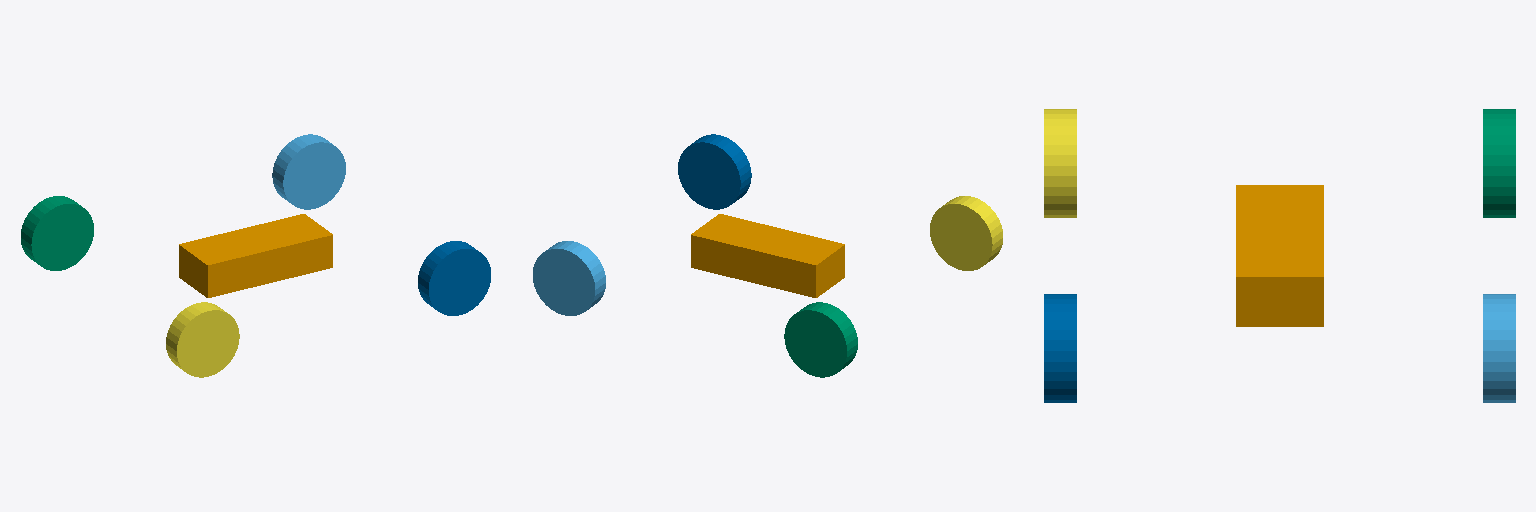
The robot description file, URDF, robot "simple_car":
<?xml version="1.0" ?>
<!-- =================================================================================== -->
<!-- |    This document was autogenerated by xacro from model.urdf.xacro               | -->
<!-- |    EDITING THIS FILE BY HAND IS NOT RECOMMENDED                                 | -->
<!-- =================================================================================== -->
<robot name="simple_car">
  <link name="base_link">
    <inertial>
      <origin rpy="0 0 0" xyz="0 0 0"/>
      <mass value="50"/>
      <inertia ixx="3.7083333333333335" ixy="0" ixz="0" iyy="17.708333333333332" iyz="0" izz="19.333333333333332"/>
    </inertial>
    <visual>
      <origin rpy="0 0 0" xyz="0 0 0"/>
      <geometry>
        <box size="2 0.8 0.5"/>
      </geometry>
    </visual>
    <collision>
      <origin rpy="0 0 0" xyz="0 0 0"/>
      <geometry>
        <box size="2 0.8 0.5"/>
      </geometry>
    </collision>
  </link>
  <link name="wheel_link_fl">
    <inertial>
      <origin rpy="0 0 0" xyz="0 0 0"/>
      <mass value="50"/>
      <inertia ixx="3.4999999999999996" ixy="0" ixz="0" iyy="3.4999999999999996" iyz="0" izz="6.25"/>
    </inertial>
    <visual>
      <origin rpy="0 0 0" xyz="0 0 0"/>
      <geometry>
        <cylinder length="0.3" radius="0.5"/>
      </geometry>
    </visual>
    <collision>
      <origin rpy="0 0 0" xyz="0 0 0"/>
      <geometry>
        <cylinder length="0.3" radius="0.5"/>
      </geometry>
    </collision>
  </link>
  <link name="wheel_link_rl">
    <inertial>
      <origin rpy="0 0 0" xyz="0 0 0"/>
      <mass value="50"/>
      <inertia ixx="3.4999999999999996" ixy="0" ixz="0" iyy="3.4999999999999996" iyz="0" izz="6.25"/>
    </inertial>
    <visual>
      <origin rpy="0 0 0" xyz="0 0 0"/>
      <geometry>
        <cylinder length="0.3" radius="0.5"/>
      </geometry>
    </visual>
    <collision>
      <origin rpy="0 0 0" xyz="0 0 0"/>
      <geometry>
        <cylinder length="0.3" radius="0.5"/>
      </geometry>
    </collision>
  </link>
  <link name="wheel_link_rr">
    <inertial>
      <origin rpy="0 0 0" xyz="0 0 0"/>
      <mass value="50"/>
      <inertia ixx="3.4999999999999996" ixy="0" ixz="0" iyy="3.4999999999999996" iyz="0" izz="6.25"/>
    </inertial>
    <visual>
      <origin rpy="0 0 0" xyz="0 0 0"/>
      <geometry>
        <cylinder length="0.3" radius="0.5"/>
      </geometry>
    </visual>
    <collision>
      <origin rpy="0 0 0" xyz="0 0 0"/>
      <geometry>
        <cylinder length="0.3" radius="0.5"/>
      </geometry>
    </collision>
  </link>
  <link name="wheel_link_fr">
    <inertial>
      <origin rpy="0 0 0" xyz="0 0 0"/>
      <mass value="50"/>
      <inertia ixx="3.4999999999999996" ixy="0" ixz="0" iyy="3.4999999999999996" iyz="0" izz="6.25"/>
    </inertial>
    <visual>
      <origin rpy="0 0 0" xyz="0 0 0"/>
      <geometry>
        <cylinder length="0.3" radius="0.5"/>
      </geometry>
    </visual>
    <collision>
      <origin rpy="0 0 0" xyz="0 0 0"/>
      <geometry>
        <cylinder length="0.3" radius="0.5"/>
      </geometry>
    </collision>
  </link>
  <joint name="joint_base_link_to_wheel_link_fl" type="continuous">
    <origin rpy="1.5707963267948966 0 0" xyz="2 2 0"/>
    <parent link="base_link"/>
    <child link="wheel_link_fl"/>
    <axis xyz="0 0 1"/>
  </joint>
  <joint name="joint_base_link_to_wheel_link_rl" type="continuous">
    <origin rpy="1.5707963267948966 0 0" xyz="-2 2 0"/>
    <parent link="base_link"/>
    <child link="wheel_link_rl"/>
    <axis xyz="0 0 1"/>
  </joint>
  <joint name="joint_base_link_to_wheel_link_rr" type="continuous">
    <origin rpy="1.5707963267948966 0 0" xyz="-2 -2 0"/>
    <parent link="base_link"/>
    <child link="wheel_link_rr"/>
    <axis xyz="0 0 1"/>
  </joint>
  <joint name="joint_base_link_to_wheel_link_fr" type="continuous">
    <origin rpy="1.5707963267948966 0 0" xyz="2 -2 0"/>
    <parent link="base_link"/>
    <child link="wheel_link_fr"/>
    <axis xyz="0 0 1"/>
  </joint>
</robot>

--- Facts derived from the render (not from the file) ---
3 views of the same robot in one strip: view 1: azimuth 30°, elevation 25°; view 2: azimuth 150°, elevation 25°; view 3: azimuth 270°, elevation 25° (orthographic).
Robot: simple_car — 5 links, 4 joints (4 continuous); root link base_link; default pose: every joint at zero.
Links seen in each view (by area): view 1: base_link, wheel_link_fl, wheel_link_rr, wheel_link_rl, wheel_link_fr; view 2: base_link, wheel_link_rl, wheel_link_fr, wheel_link_fl, wheel_link_rr; view 3: base_link, wheel_link_fl, wheel_link_rl, wheel_link_rr, wheel_link_fr.
Link boxes in pixels (bbox=[...]): base_link: bbox=[179, 214, 332, 297]; wheel_link_fl: bbox=[272, 134, 345, 209]; wheel_link_rr: bbox=[166, 302, 239, 377]; wheel_link_rl: bbox=[21, 196, 93, 270]; wheel_link_fr: bbox=[418, 241, 490, 315]; base_link: bbox=[691, 214, 844, 297]; wheel_link_rl: bbox=[784, 302, 857, 377]; wheel_link_fr: bbox=[678, 134, 751, 209]; wheel_link_fl: bbox=[533, 241, 605, 315]; wheel_link_rr: bbox=[930, 196, 1002, 270]; base_link: bbox=[1236, 185, 1323, 326]; wheel_link_fl: bbox=[1483, 294, 1515, 402]; wheel_link_rl: bbox=[1483, 109, 1515, 217]; wheel_link_rr: bbox=[1044, 109, 1076, 217]; wheel_link_fr: bbox=[1044, 294, 1076, 402].
Size in the robot's own frame: 5 by 4.3 by 1 metres.
Geometry: primitives only (box / cylinder / sphere), no mesh files.